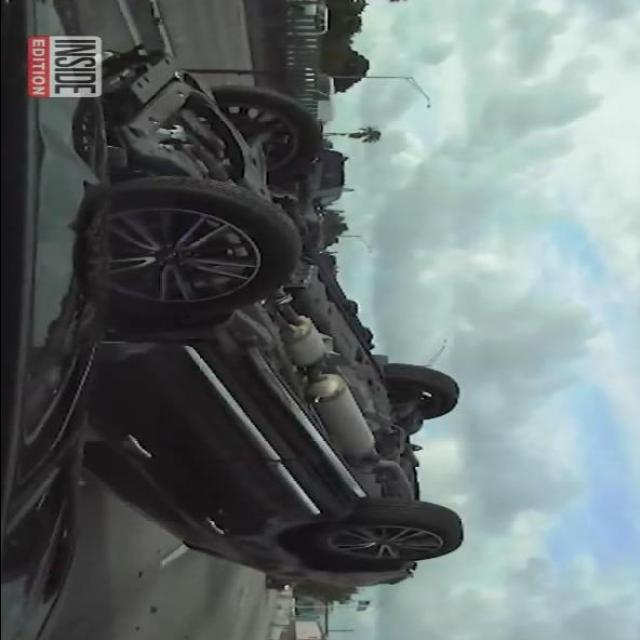accident: (84, 44, 464, 589)
